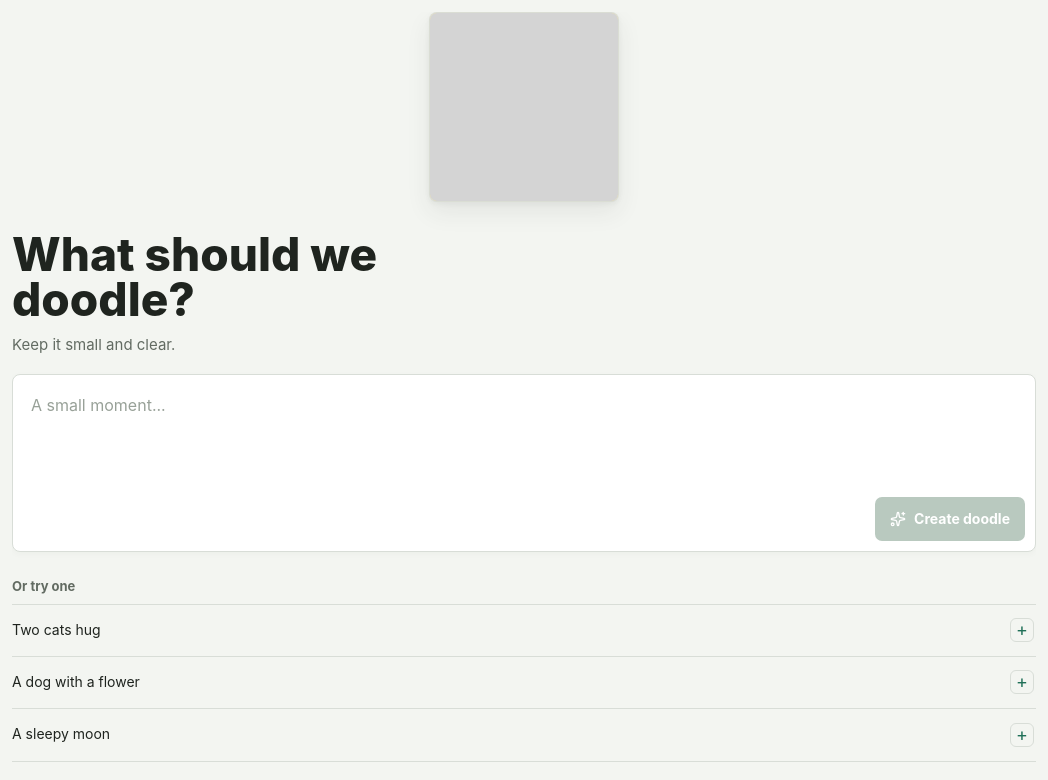
DoodleClient › fills a suggestion without fetching
The image size is (1048, 780).
Step 1. Click the button "Two cats hug +" → click(56, 629), box [12,605,1036,657]
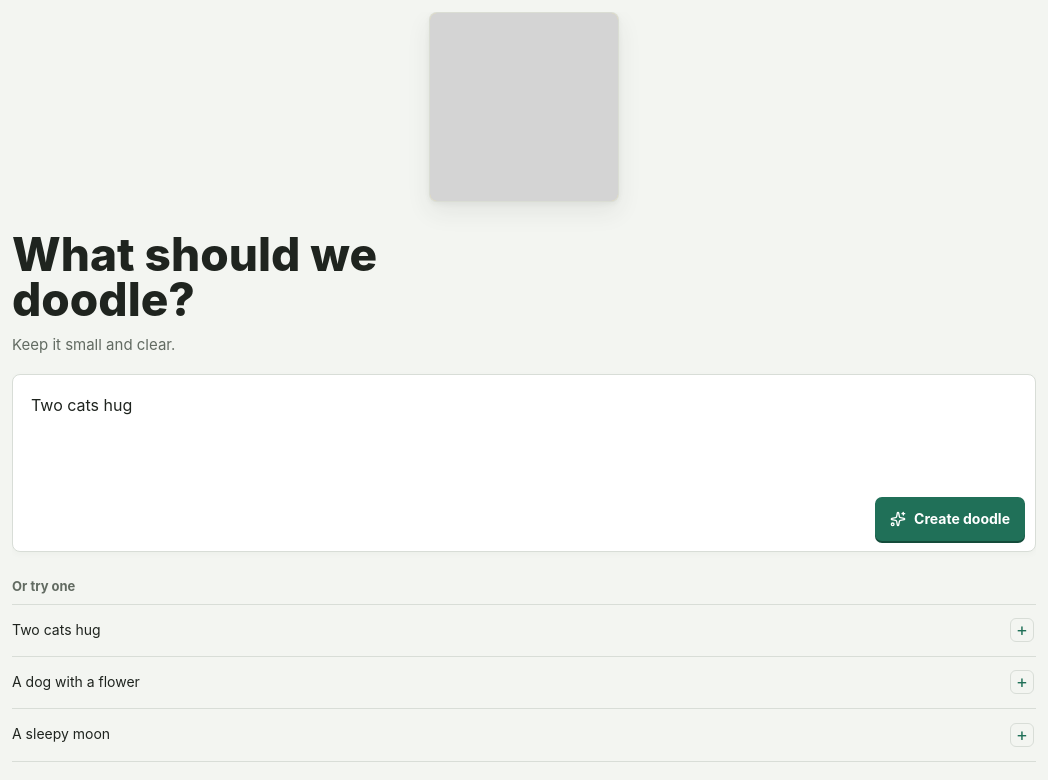
Result: the text box holds "Two cats hug" at [13,375,1035,487]
